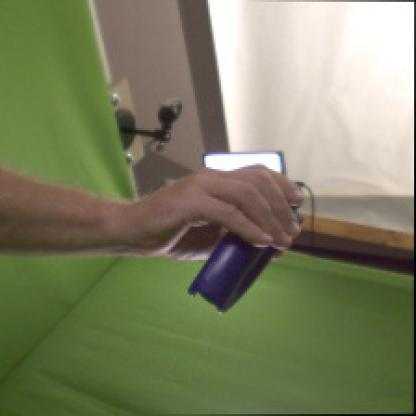Hand: (126, 164, 307, 262)
